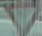Give way: (0, 0, 40, 35)
